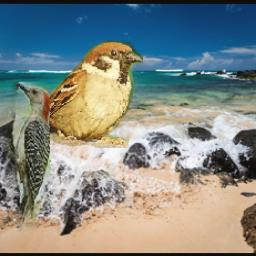Sparrow: (23, 41, 143, 149)
Woodpecker: (0, 82, 50, 232)
